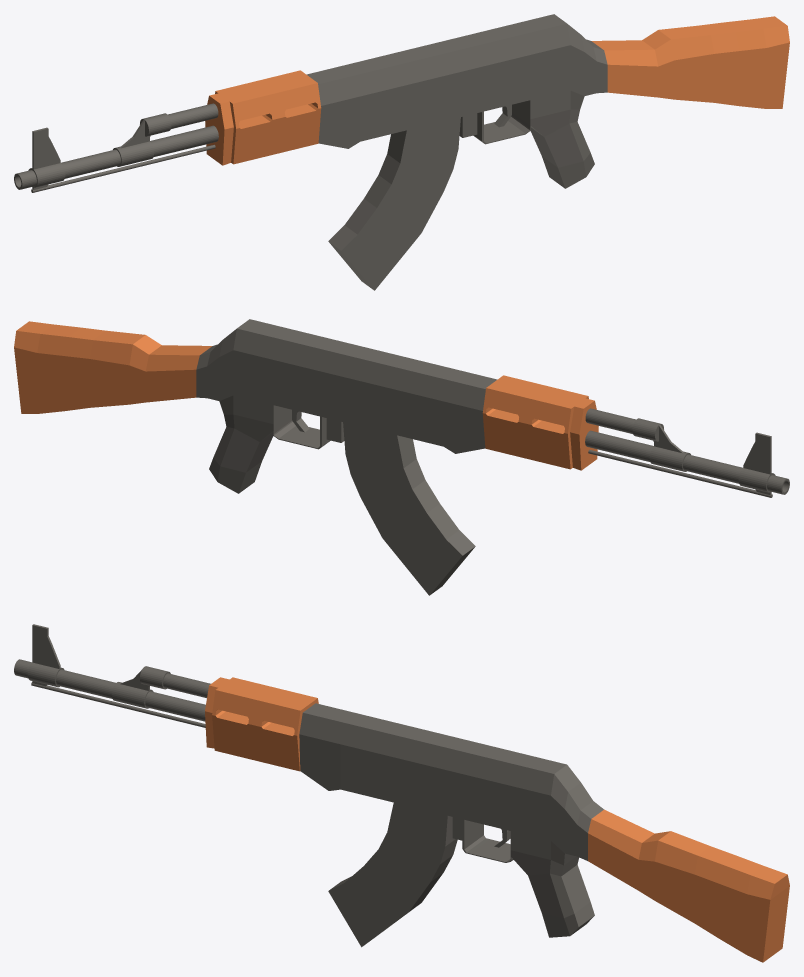
3 views of the same model, one above another, from view 1: azimuth 30°, elevation 25°; view 2: azimuth 150°, elevation 25°; view 3: azimuth 330°, elevation 25° (orthographic).
Parts seen in each view (by area): view 1: Cube, Cube.001, Cube.002; view 2: Cube, Cube.001, Cube.002; view 3: Cube, Cube.001, Cube.002.
Boxes of the visible parts, bbox=[...] form: Cube: bbox=[14, 14, 607, 290]; Cube.001: bbox=[592, 16, 789, 108]; Cube.002: bbox=[205, 70, 321, 165]; Cube: bbox=[196, 319, 789, 595]; Cube.001: bbox=[14, 321, 211, 413]; Cube.002: bbox=[482, 375, 598, 470]; Cube: bbox=[14, 624, 603, 947]; Cube.001: bbox=[588, 809, 789, 962]; Cube.002: bbox=[205, 677, 318, 771].
Size of the model in its own units: 434 by 128 by 23.72.
